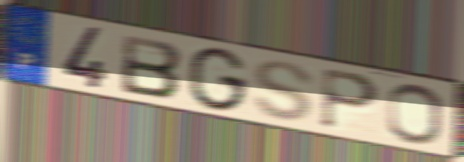4: (60, 25, 109, 91)
B: (120, 32, 185, 100)
G: (186, 46, 250, 115)
O: (385, 82, 445, 148)
P: (318, 66, 382, 133)
S: (252, 58, 317, 123)
